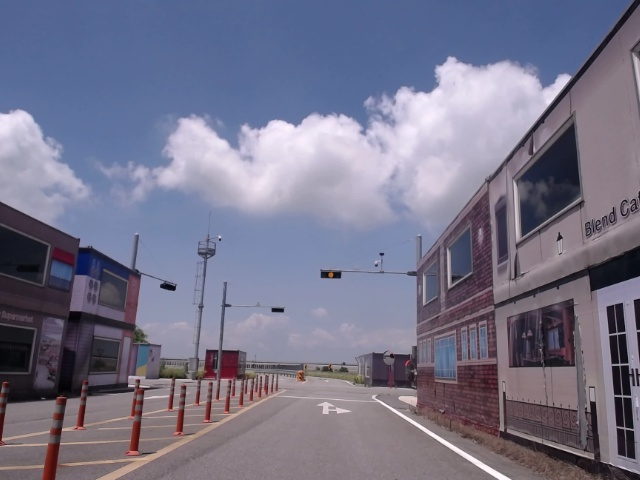orange_3: (319, 271, 343, 278)
